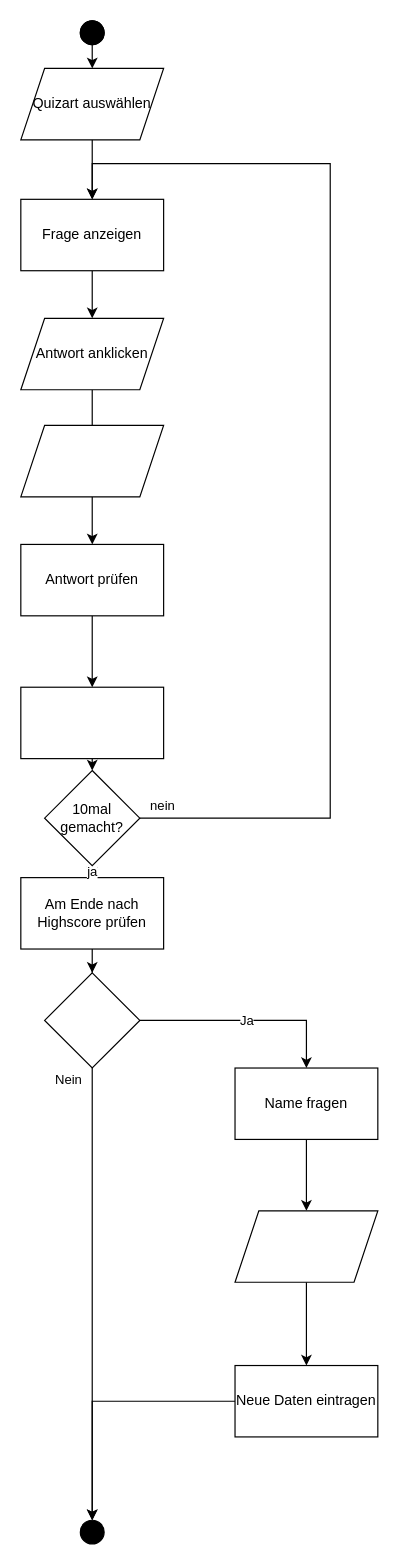
The diagram is 399 pixels wide and 1565 high, and some of its shapes have lost their labels. The centre of each missing label's shape, as x and y in pixels:
"Antwort bestätigen" goes at point (92, 460).
"Highscore?" goes at point (91, 1020).
"Name eintragen" goes at point (306, 1246).
"Punkte zählen" goes at point (92, 722).
